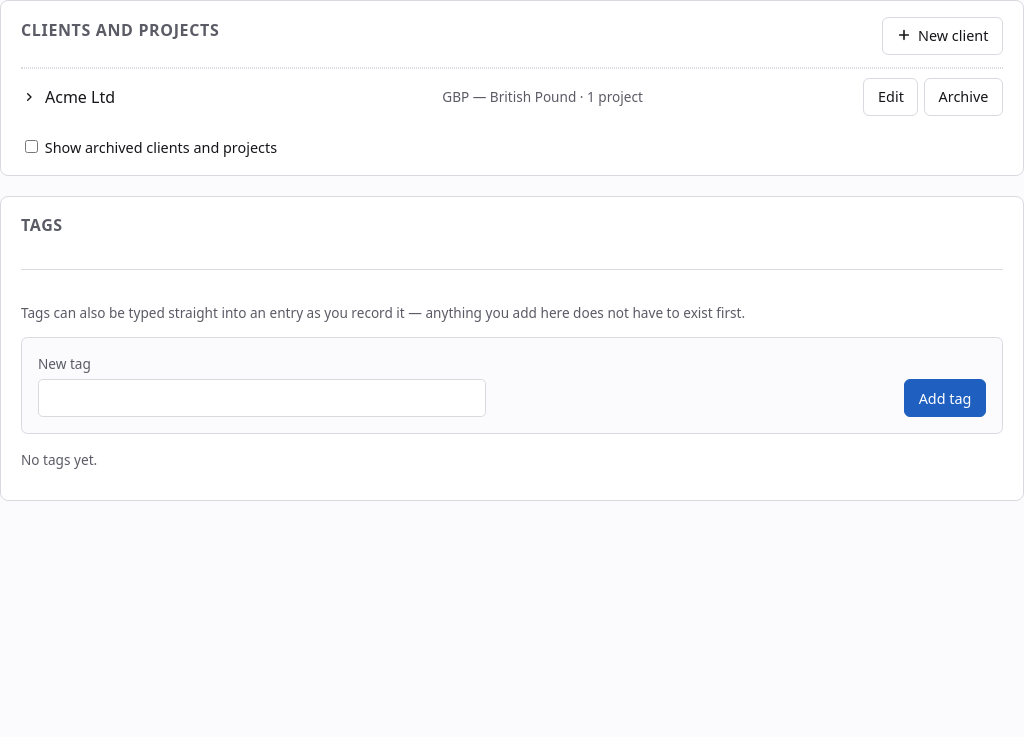
Test: creating records (0005 P1, P2, P7) › refuses a duplicate project name and reports why
This screenshot has width=1024, height=737.
Click the button with class "taxonomy-group-toggle" at {"x": 80, "y": 97}, box [21,77,430,117]
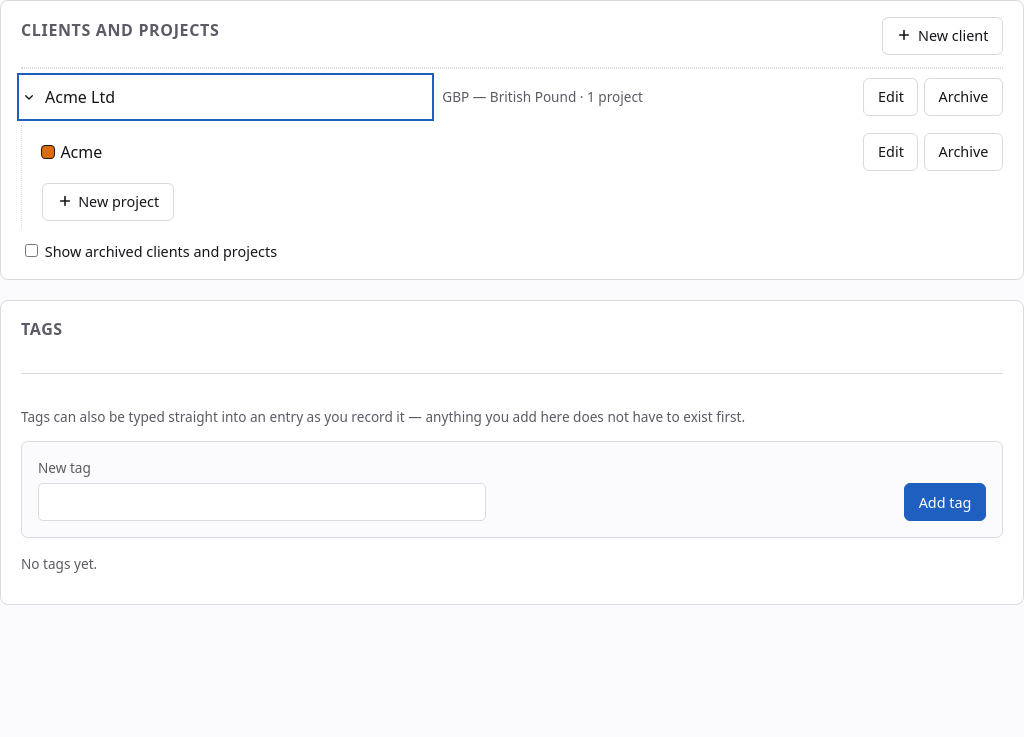
Click the button with aria-label "New project for Acme Ltd" at {"x": 108, "y": 202}, box [42,183,174,221]
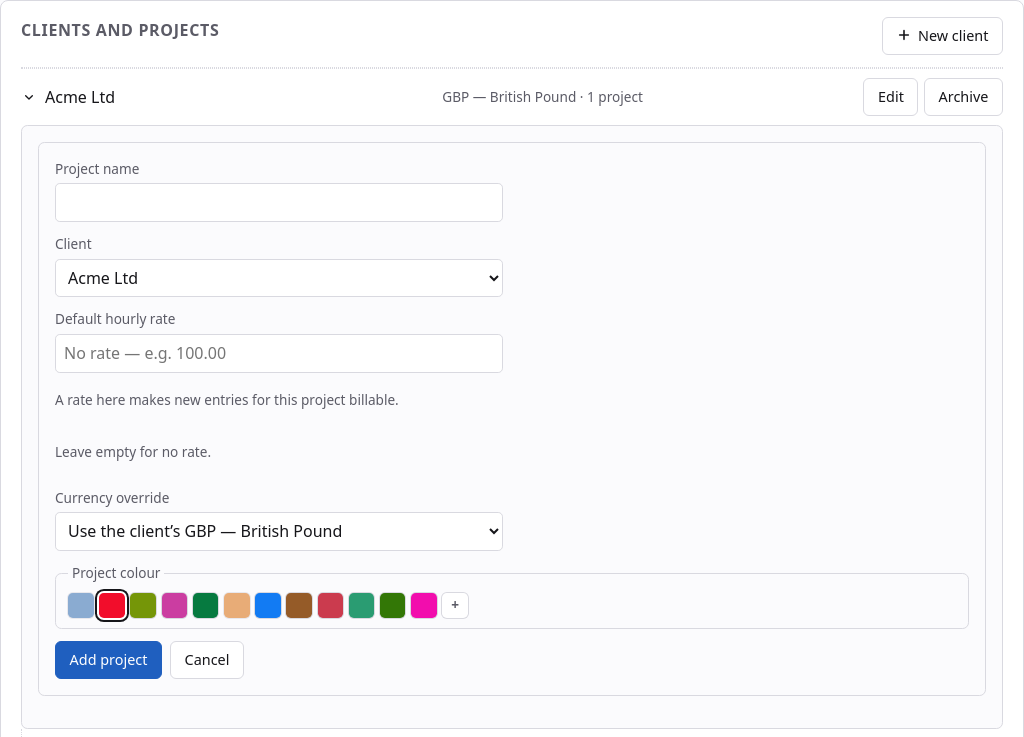
Type "acme" into the field labelled "Project name" at {"x": 279, "y": 203}, box [55,183,503,222]
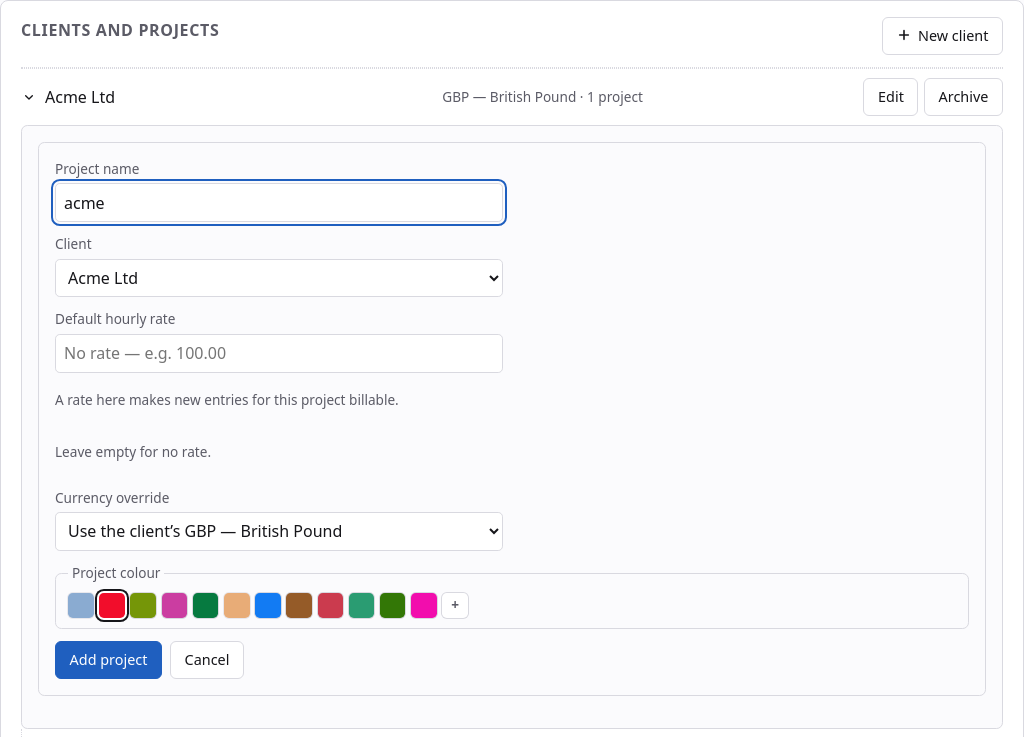
Click the button "Add project" at {"x": 108, "y": 660}, box [55,641,162,679]
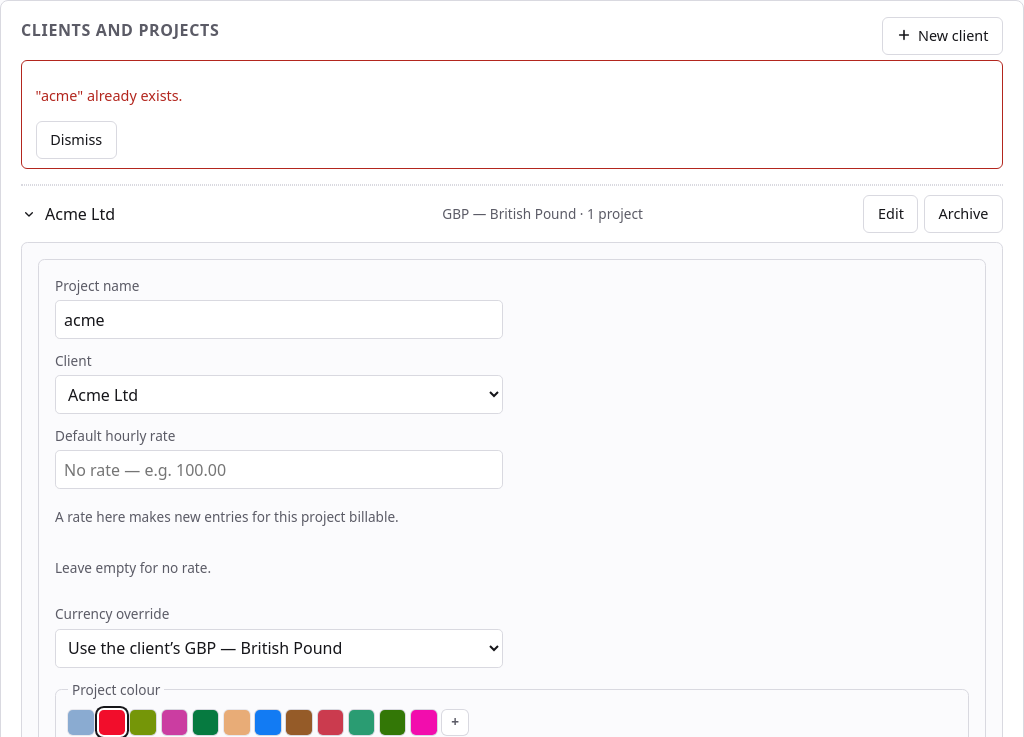
Now the message with test id "settings-error" shows "already exists", box [36,86,182,105]
